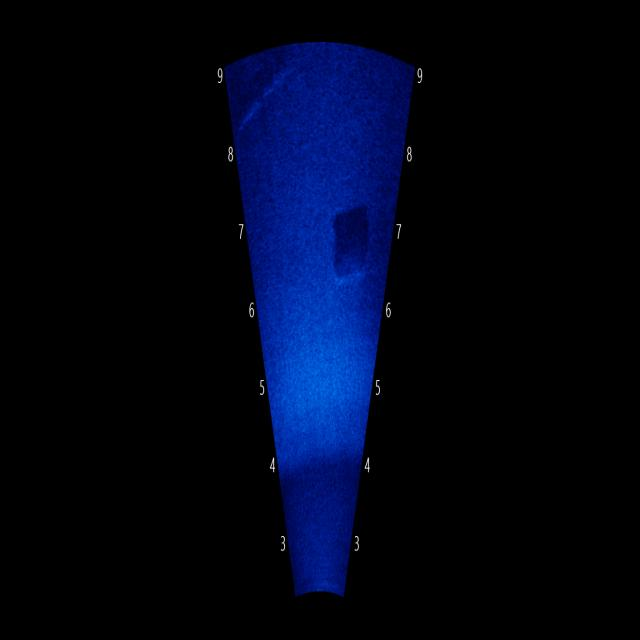square: (326, 187, 374, 294)
